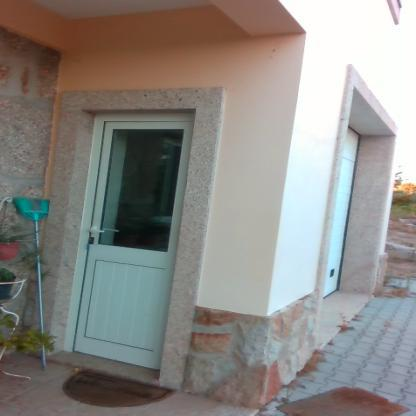door: (87, 116, 174, 362)
lever: (90, 230, 110, 235)
